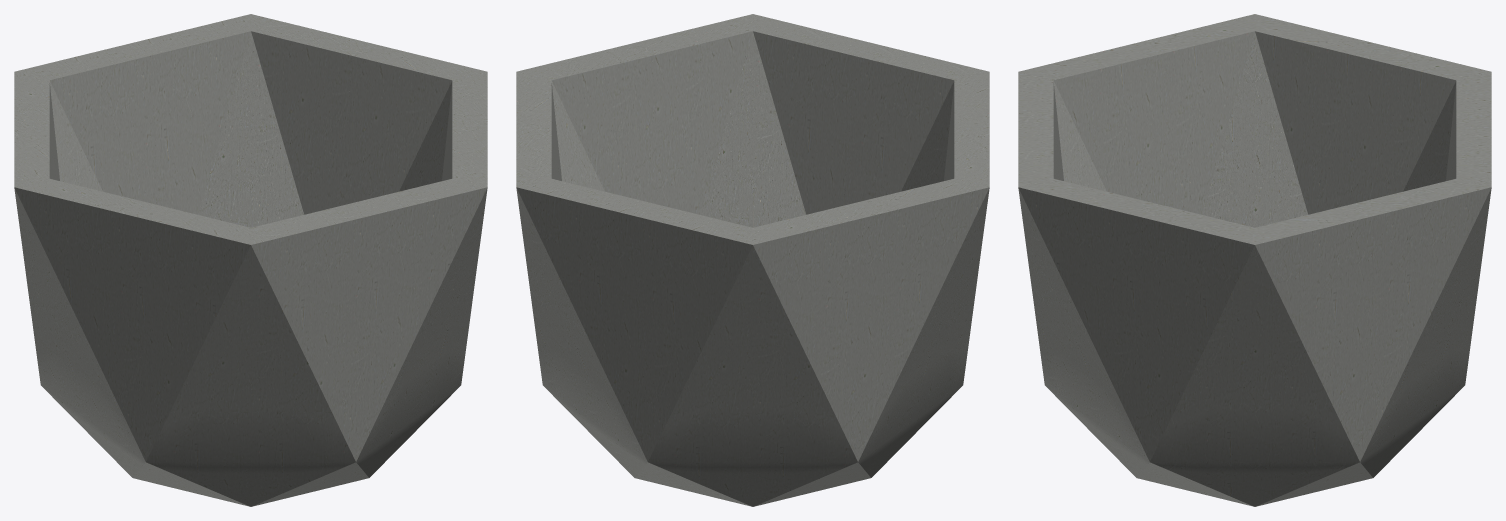
Rendered from hexapot.glb.
The picture shows the model from 3 angles, left to right: view 1: azimuth 30°, elevation 25°; view 2: azimuth 150°, elevation 25°; view 3: azimuth 270°, elevation 25°; orthographic projection.
Parts seen in each view (by area): view 1: Object_2; view 2: Object_2; view 3: Object_2.
Boxes of the visible parts, bbox=[...] form: Object_2: bbox=[14, 14, 487, 506]; Object_2: bbox=[516, 14, 989, 506]; Object_2: bbox=[1018, 14, 1491, 506].
Bounding box in the file's own units: 0.3014 × 0.1945 × 0.261.
Materials: 1 (1 with a texture image).
